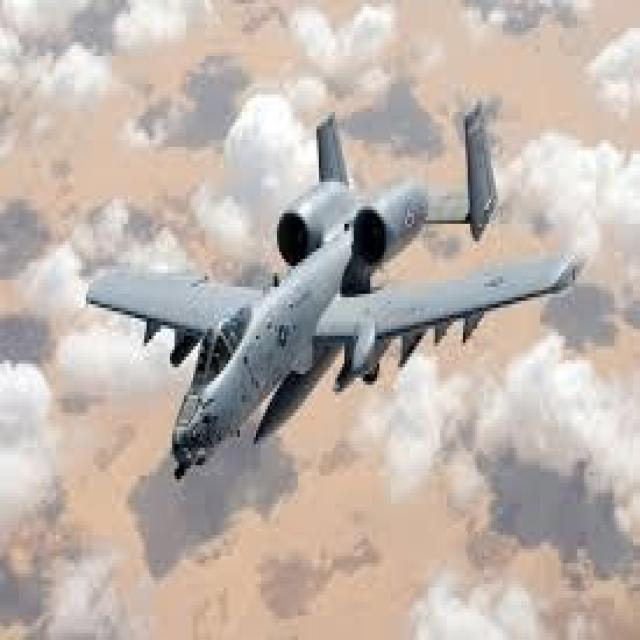A10: (82, 72, 613, 515)
